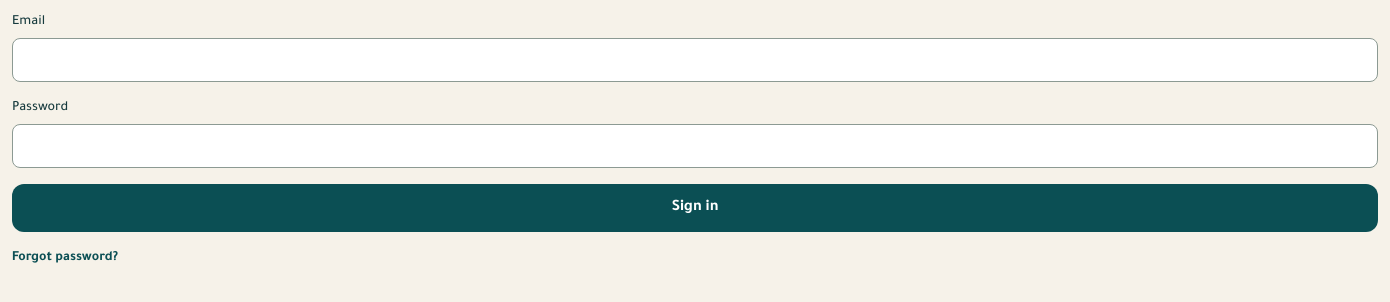
Test: LoginForm › puts VALIDATION_FAILED messages on the fields
Type "lina@example.test" into the field labelled "Email" at (695, 60), box [12,38,1378,82]
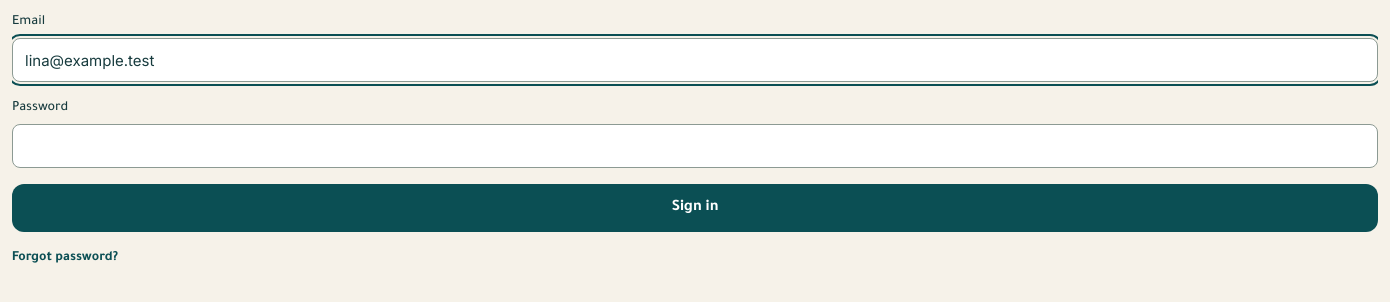
Type "correct horse" into the password field labelled "Password" at (695, 146), box [12,124,1378,168]
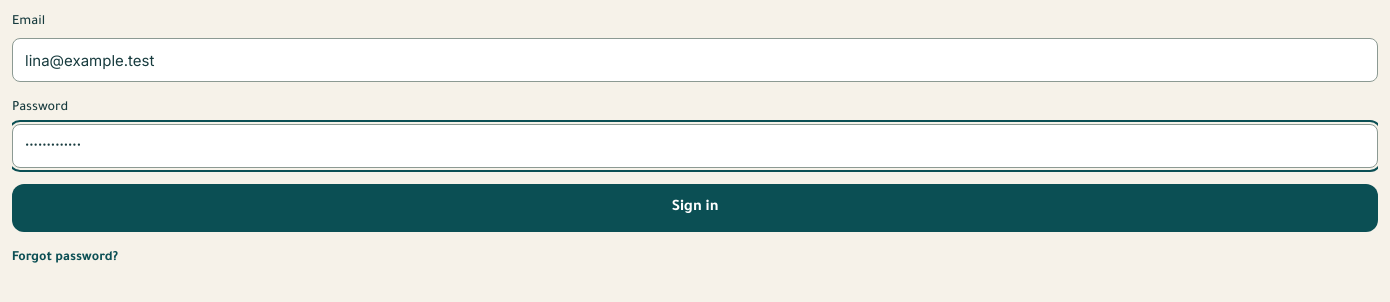
Click the button "Sign in" at (695, 208), box [12,184,1378,232]
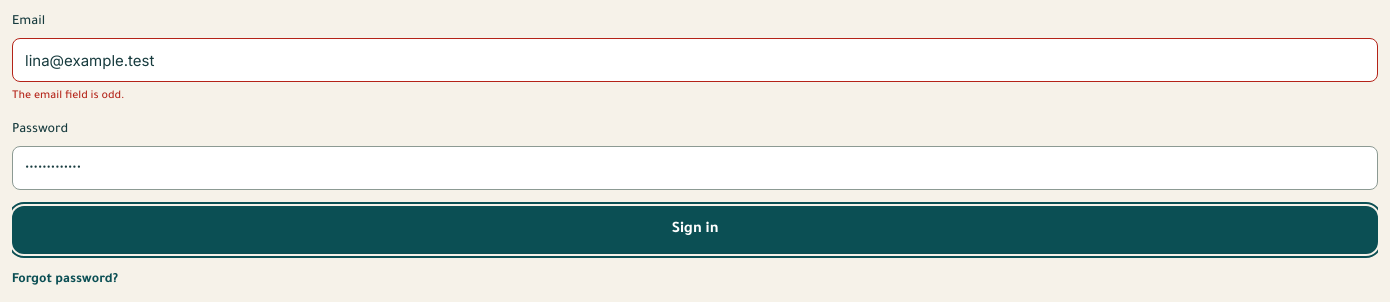
Expected: the text "The email field is odd." is shown, [12,90,124,102]
